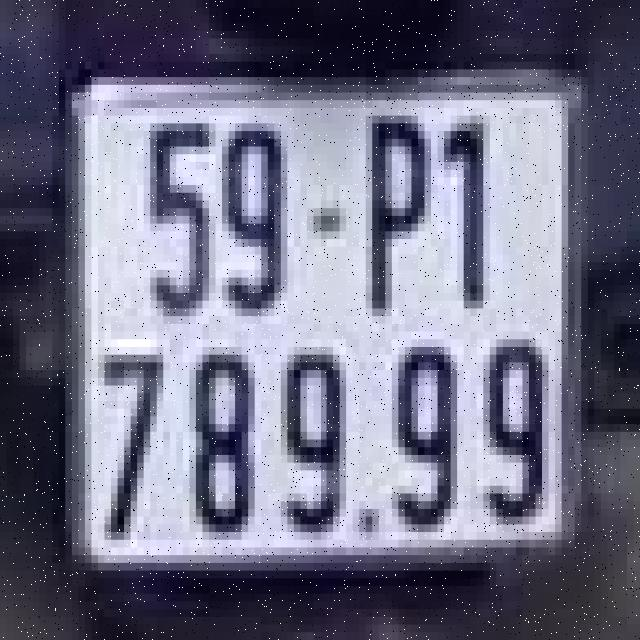1: (431, 96, 509, 320)
5: (134, 112, 219, 320)
7: (91, 347, 170, 547)
8: (183, 336, 261, 544)
9: (378, 335, 464, 536), (215, 108, 294, 324), (277, 340, 356, 548), (477, 328, 555, 536)
P: (356, 104, 434, 320)
